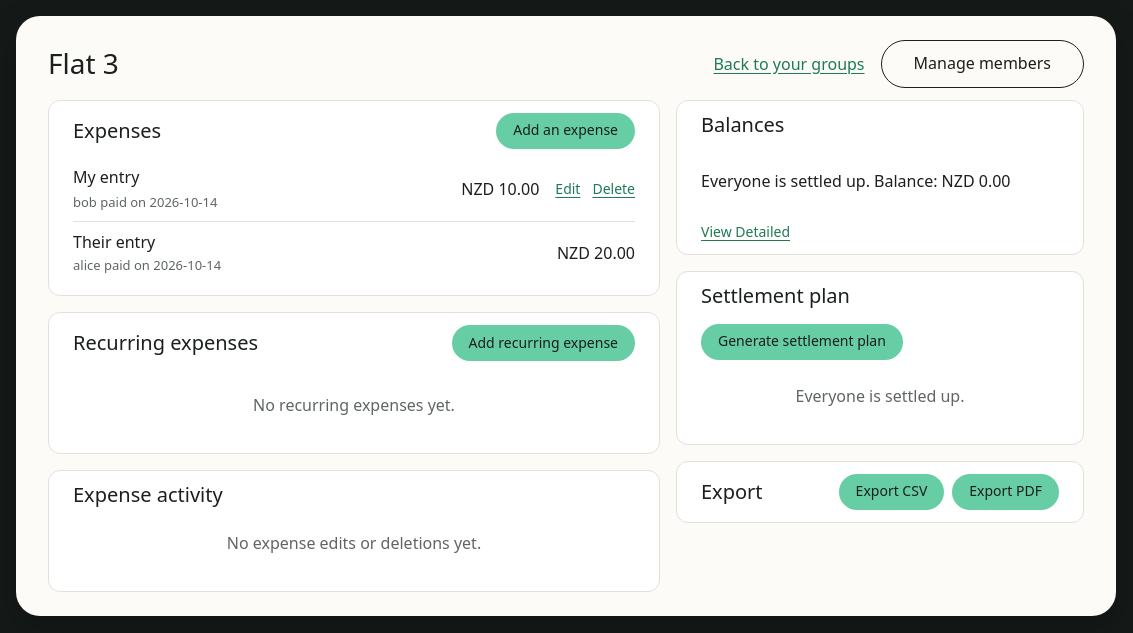
Test: refreshes group activity after confirmed deletion
Expected: the text "No expense edits or deletions yet." is shown, [227,532,481,554]
Click the button with aria-label "Delete My entry".
click(614, 189)  # box [592,165,635,213]
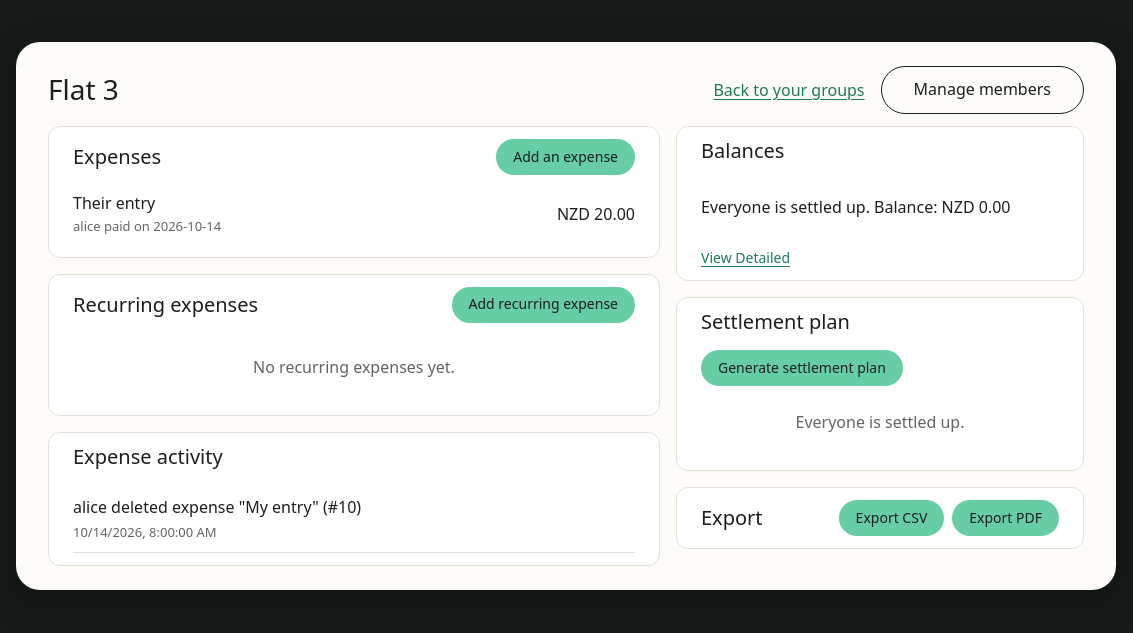
Result: the text "alice deleted expense \"My entry\" (#10)" is shown at [73,496,361,518]
